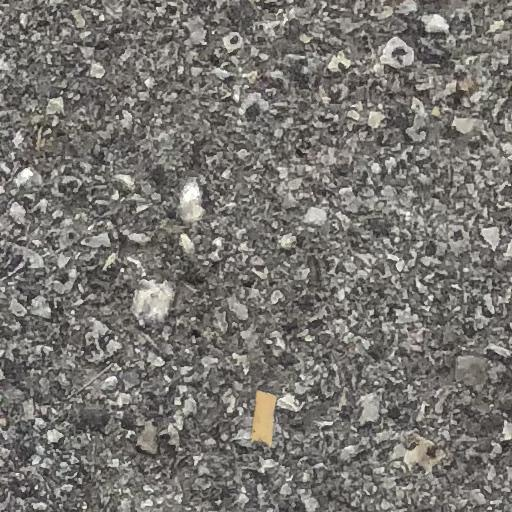smoke: (252, 391, 276, 446)
